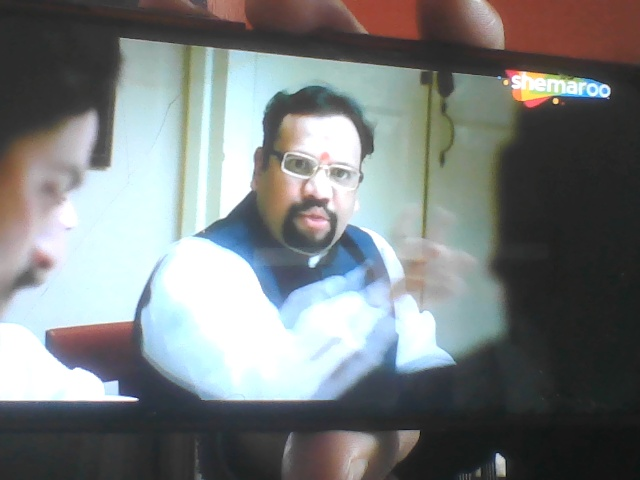fake: (248, 83, 370, 256)
